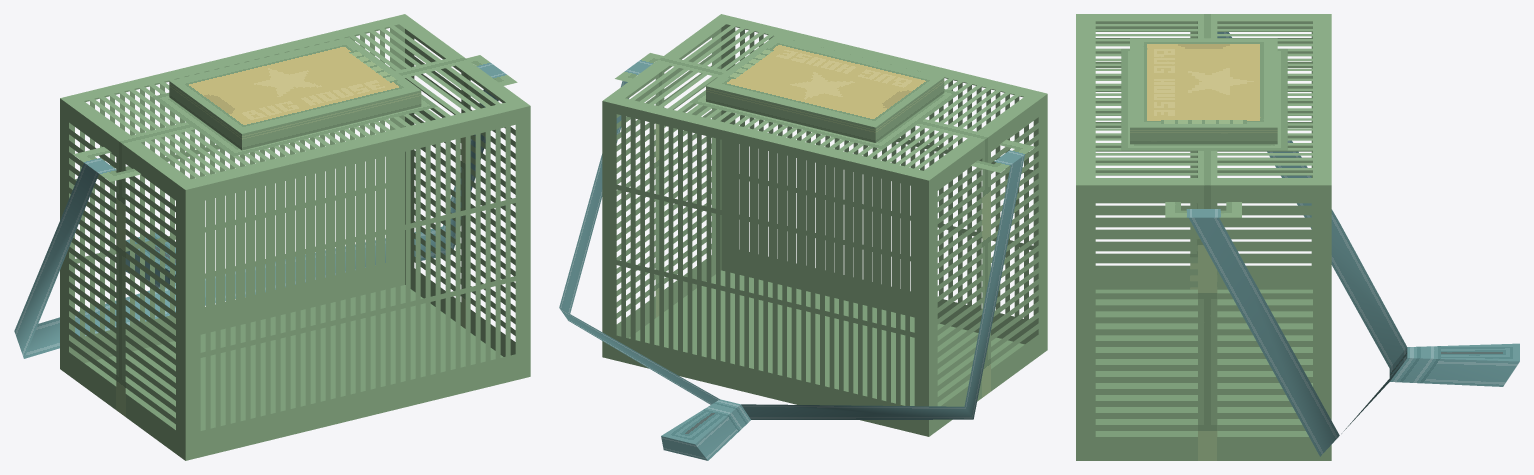
The model's file is 02b9_Insect_Cage.glb.
The picture shows the model from 3 angles, left to right: view 1: azimuth 30°, elevation 25°; view 2: azimuth 150°, elevation 25°; view 3: azimuth 270°, elevation 25°; orthographic projection. The views are drawn at different scales.
Visible parts, largest first — view 1: part_0; view 2: part_0; view 3: part_0.
Boxes of the visible parts, box(x1,y1,x2,y2) form: part_0: box(14, 14, 530, 460); part_0: box(559, 14, 1047, 460); part_0: box(1076, 14, 1519, 460).
Size of the model in its own units: 0.273 by 0.175 by 0.2408.
Materials: 1 (1 with a texture image).
